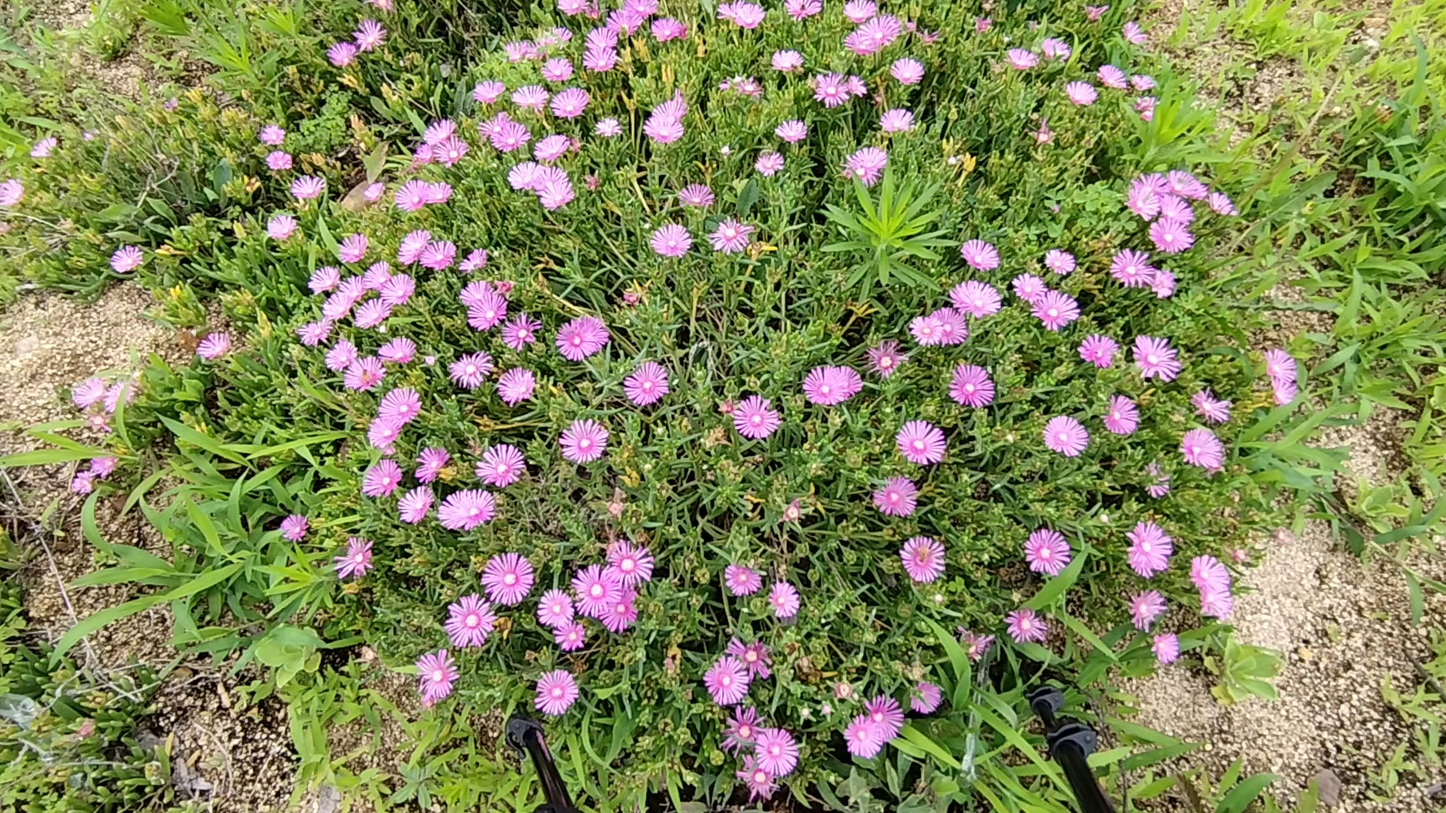bees: (918, 544, 929, 563), (361, 367, 371, 383), (799, 3, 807, 13)
